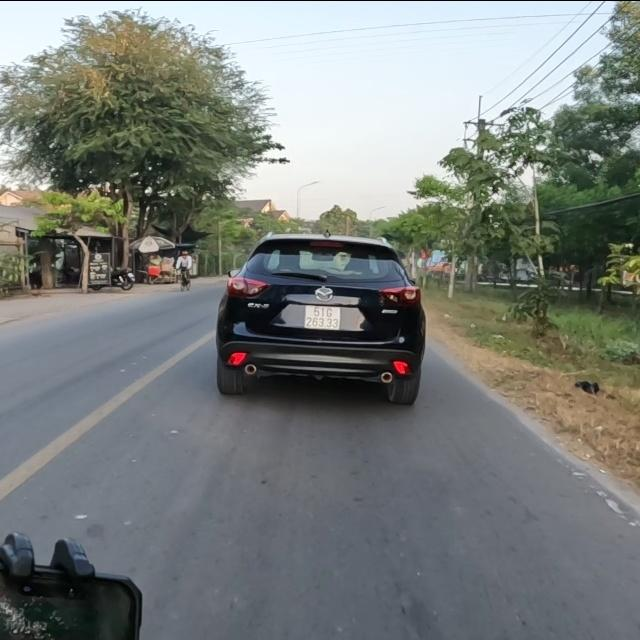license-plate: (303, 304, 343, 331)
